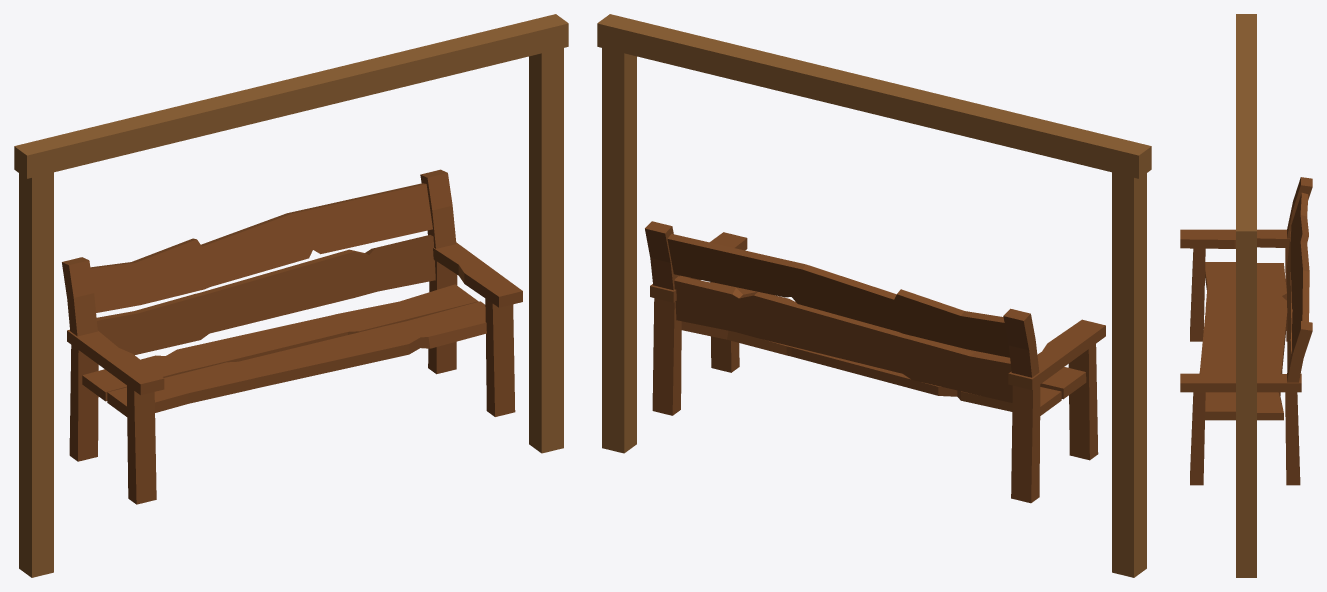
Rendered from bench_swing.glb.
3 views of the same model, side by side, from view 1: azimuth 30°, elevation 25°; view 2: azimuth 150°, elevation 25°; view 3: azimuth 270°, elevation 25° (orthographic). The views are drawn at different scales.
Parts seen in each view (by area): view 1: decor-bench_swing; view 2: decor-bench_swing; view 3: decor-bench_swing.
Part boxes in pixels (left/top/right/bottom): decor-bench_swing: left=14, top=14, right=568, bottom=577; decor-bench_swing: left=597, top=14, right=1151, bottom=577; decor-bench_swing: left=1180, top=14, right=1312, bottom=577.
Bounding box in the file's own units: 3.4 × 2.54 × 0.875.
